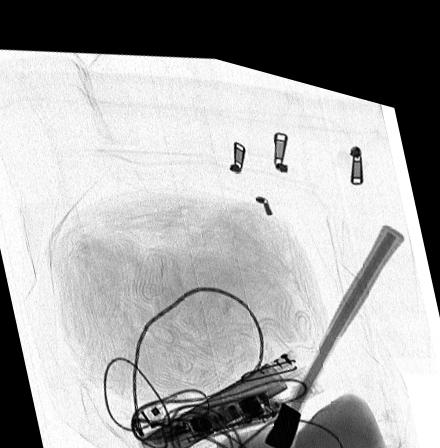Hammer: (262, 202, 403, 437)
